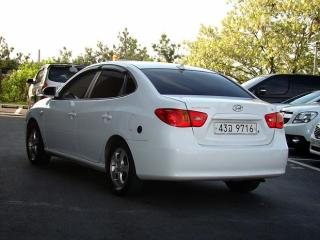1: (245, 124, 249, 133)
3: (223, 124, 228, 133)
4: (219, 123, 223, 132)
6: (249, 124, 254, 133)
7: (240, 124, 245, 133)
9: (235, 124, 240, 133)
plate: (213, 119, 264, 138)
고: (228, 125, 233, 133)
